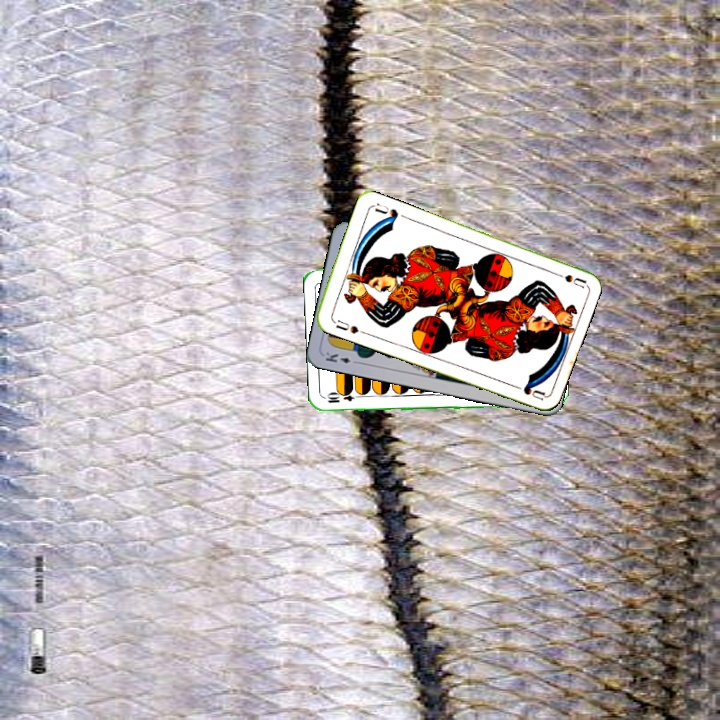E10: (323, 390, 364, 406)
EK: (321, 348, 361, 367)
SU: (547, 267, 587, 290), (328, 315, 368, 336)
